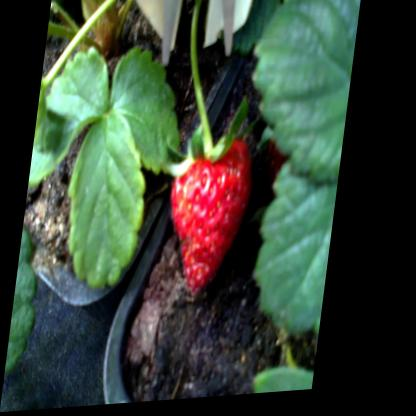ripe: (157, 142, 264, 305)
